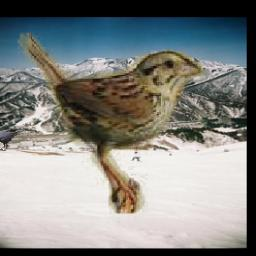Crow: (0, 128, 25, 151)
Sparrow: (18, 33, 205, 213)
